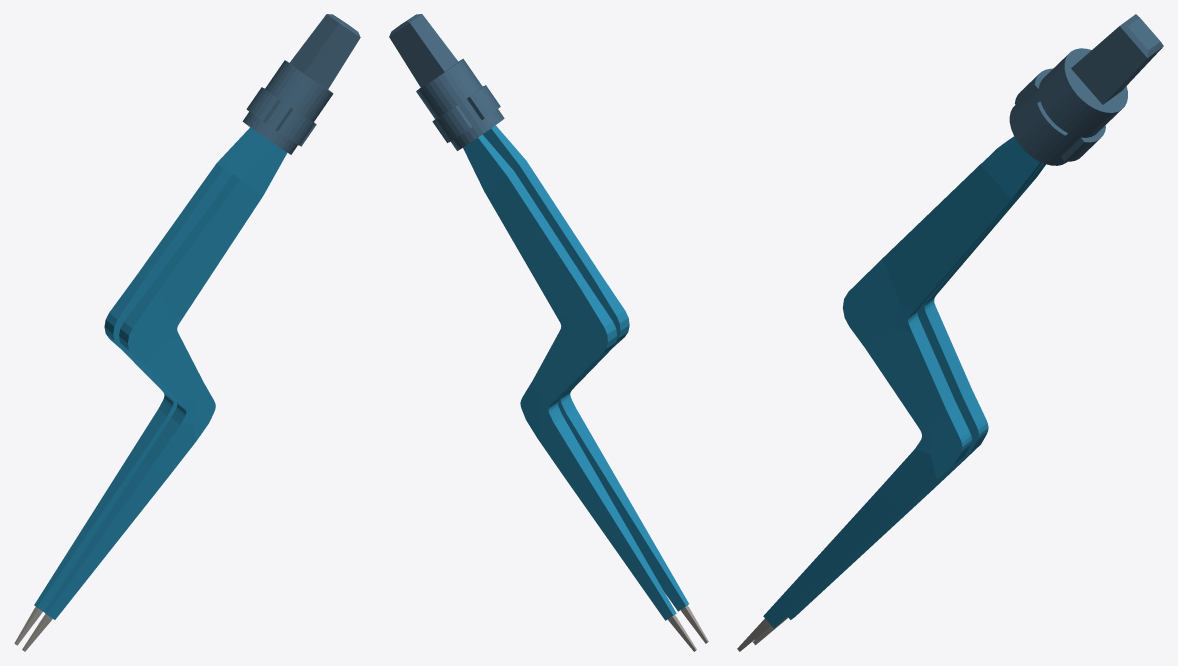
File: esu_Bipolar_ea.gltf
The picture shows the model from 3 angles, left to right: view 1: azimuth 30°, elevation 25°; view 2: azimuth 150°, elevation 25°; view 3: azimuth 330°, elevation 25°; orthographic projection. The views are drawn at different scales.
Parts seen in each view (by area): view 1: Cube.009; view 2: Cube.009; view 3: Cube.009.
Boxes of the visible parts, <box> form: Cube.009: <box>14,14,360,651</box>; Cube.009: <box>389,14,708,651</box>; Cube.009: <box>737,14,1163,651</box>.
Bounding box in the file's own units: 6.44 × 10.63 × 1.19.
